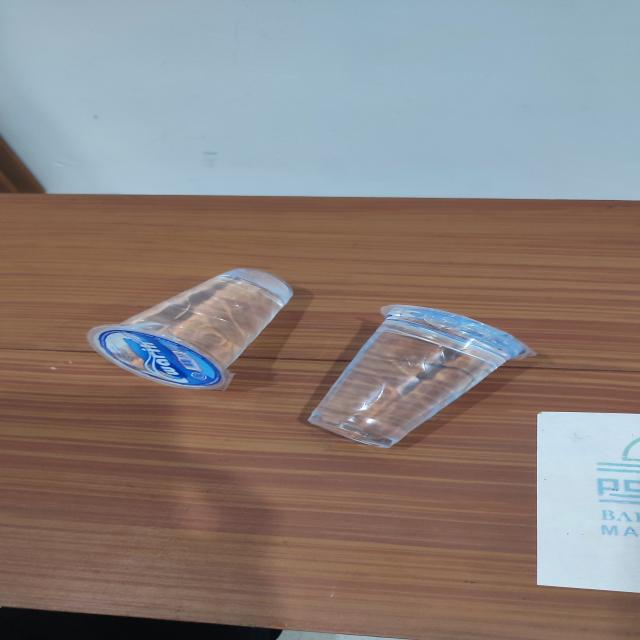air gelas: (297, 299, 540, 451), (72, 262, 300, 395)
